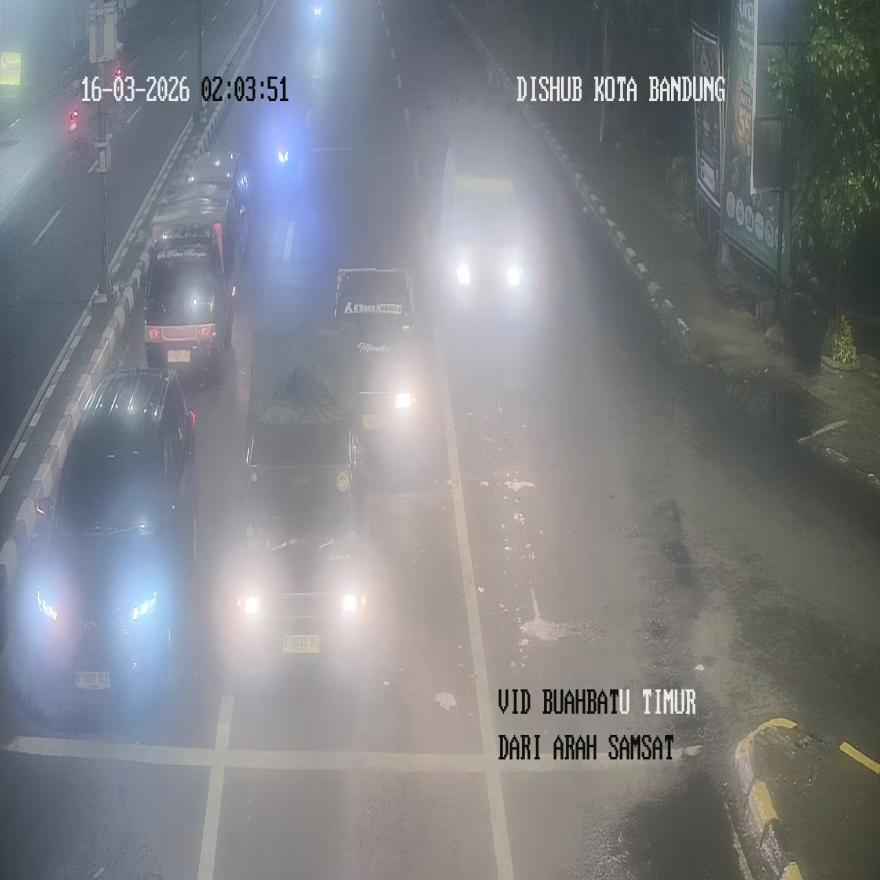Mobil: (22, 366, 200, 704), (225, 322, 371, 681), (143, 150, 249, 377), (334, 267, 431, 470), (438, 148, 537, 328)
